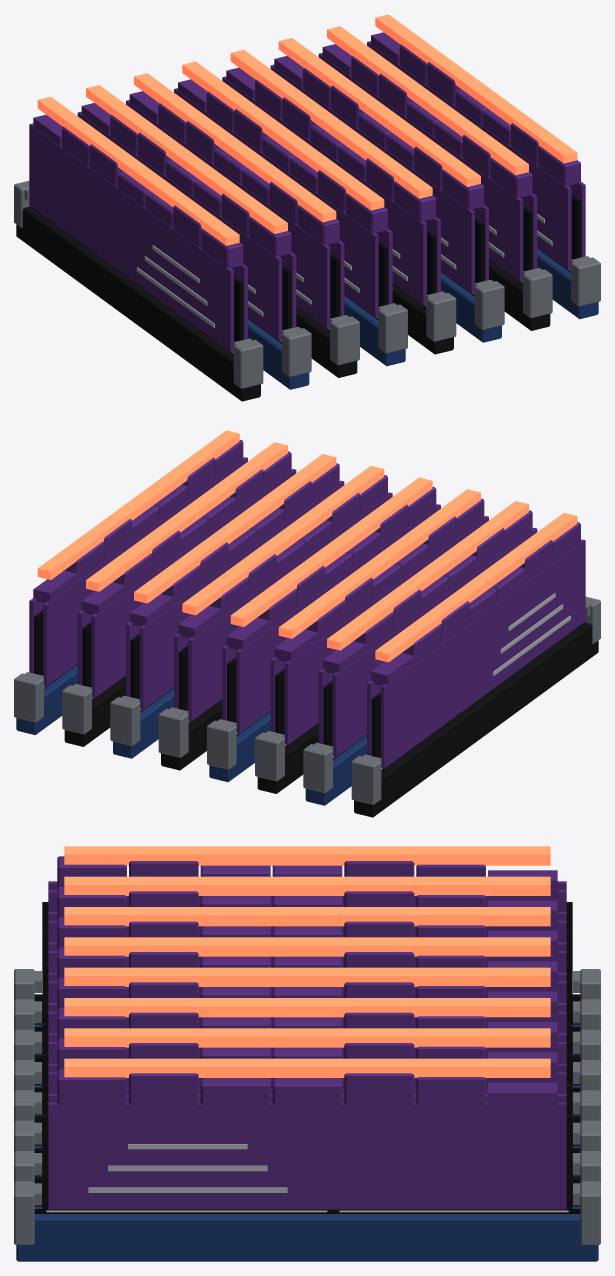
Rendered from hwm_ram_ddr5_512gb.glb.
3 renders of one model, top to bottom at view 1: azimuth 30°, elevation 25°; view 2: azimuth 150°, elevation 25°; view 3: azimuth 270°, elevation 25°, orthographic. The views are drawn at different scales.
Parts seen in each view (by area): view 1: Stick_0, Slots, Stick_1, Stick_2, Stick_4, Stick_7, Stick_6, Stick_3, Stick_5, Latch_4_1, Latch_0_1, Latch_5_1 (+6 smaller); view 2: Stick_0, Slots, Stick_1, Stick_2, Stick_7, Stick_3, Stick_4, Stick_6, Stick_5, Latch_4_0, Latch_0_0, Latch_5_0 (+6 smaller); view 3: Stick_7, Slots, Stick_6, Stick_2, Stick_5, Stick_1, Stick_4, Stick_0, Stick_3, Latch_7_0, Latch_7_1, Latch_1_0 (+13 smaller).
Part boxes in pixels (<box>): Stick_0: <box>29,97,247,353</box>; Slots: <box>16,206,598,401</box>; Stick_1: <box>77,85,296,341</box>; Stick_2: <box>126,73,344,329</box>; Stick_4: <box>222,49,440,305</box>; Stick_7: <box>367,14,585,270</box>; Stick_6: <box>318,26,537,282</box>; Stick_3: <box>174,61,392,317</box>; Stick_5: <box>270,38,488,294</box>; Latch_4_1: <box>426,291,456,341</box>; Latch_0_1: <box>233,338,263,388</box>; Latch_5_1: <box>474,279,504,330</box>; Stick_0: <box>367,513,585,769</box>; Slots: <box>16,622,598,817</box>; Stick_1: <box>318,501,537,757</box>; Stick_2: <box>270,489,488,745</box>; Stick_7: <box>29,430,247,686</box>; Stick_3: <box>222,477,440,733</box>; Stick_4: <box>174,465,392,721</box>; Stick_6: <box>77,442,296,698</box>; Stick_5: <box>126,454,344,710</box>; Latch_4_0: <box>158,707,188,757</box>; Latch_0_0: <box>351,754,381,804</box>; Latch_5_0: <box>110,695,140,746</box>; Stick_7: <box>42,1058,572,1212</box>; Slots: <box>16,994,598,1261</box>; Stick_6: <box>42,1028,572,1114</box>; Stick_2: <box>42,907,572,992</box>; Stick_5: <box>42,998,572,1083</box>; Stick_1: <box>42,876,572,962</box>; Stick_4: <box>42,967,572,1053</box>; Stick_0: <box>42,846,572,932</box>; Stick_3: <box>42,937,572,1023</box>; Latch_7_0: <box>573,1181,600,1244</box>; Latch_7_1: <box>14,1181,41,1244</box>; Latch_1_0: <box>573,999,600,1030</box>.
Size of the model in its own units: 0.1346 by 0.0535 by 0.1472.
